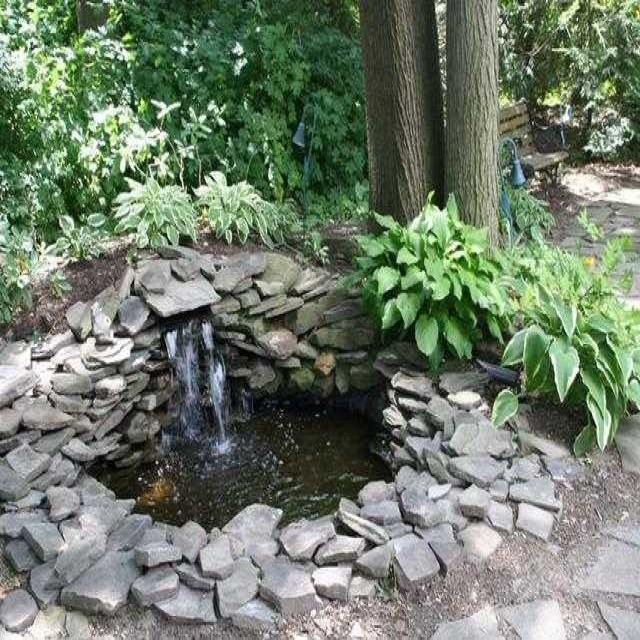Ponds: (1, 253, 556, 637)
